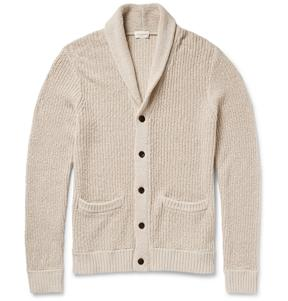C_cardigan sweater: (23, 6, 288, 290)
